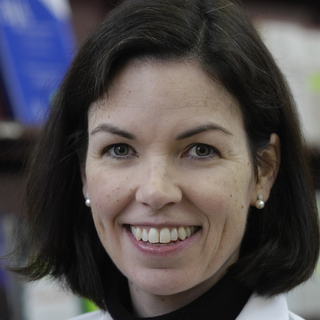eye: (175, 139, 225, 164), (97, 139, 142, 164)
